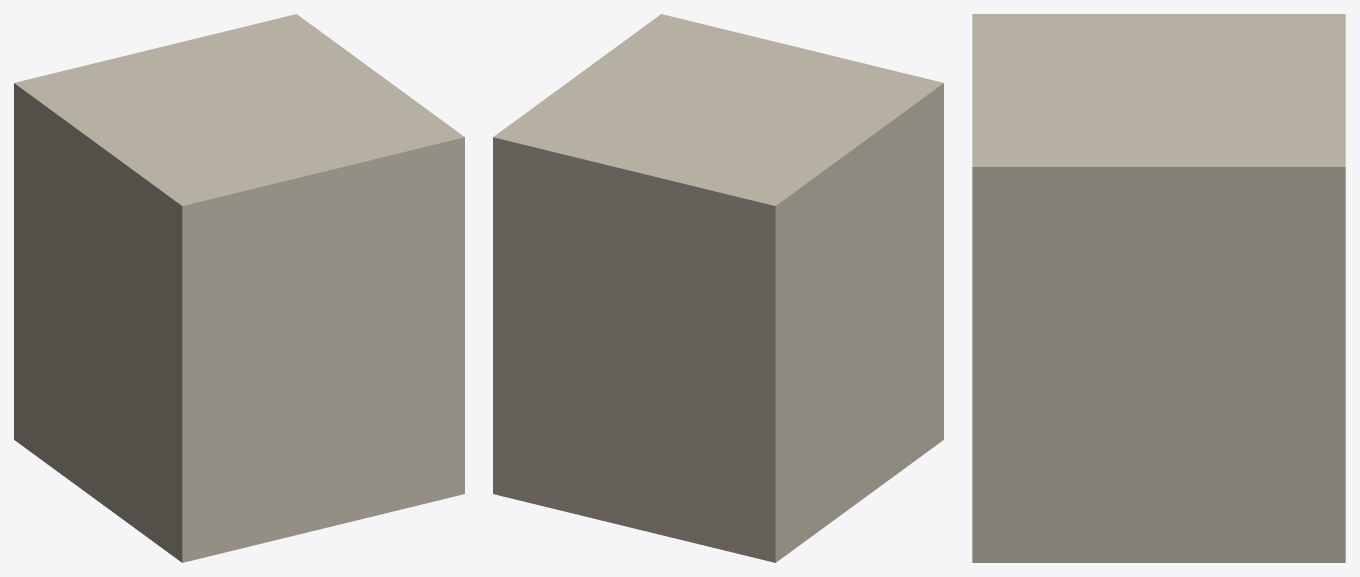
Rendered from vidaxl-outdoor-315639-g2-proxy.glb.
3 renders of one model, left to right at view 1: azimuth 30°, elevation 25°; view 2: azimuth 150°, elevation 25°; view 3: azimuth 270°, elevation 25°, orthographic. The views are drawn at different scales.
Visible parts, largest first — view 1: proxy_body; view 2: proxy_body; view 3: proxy_body.
Part boxes in pixels (x1,y1,x2,y2): proxy_body: (14,14,464,562); proxy_body: (493,14,943,562); proxy_body: (972,14,1345,562).
Bounding box in the file's own units: 0.63 × 0.76 × 0.65.
